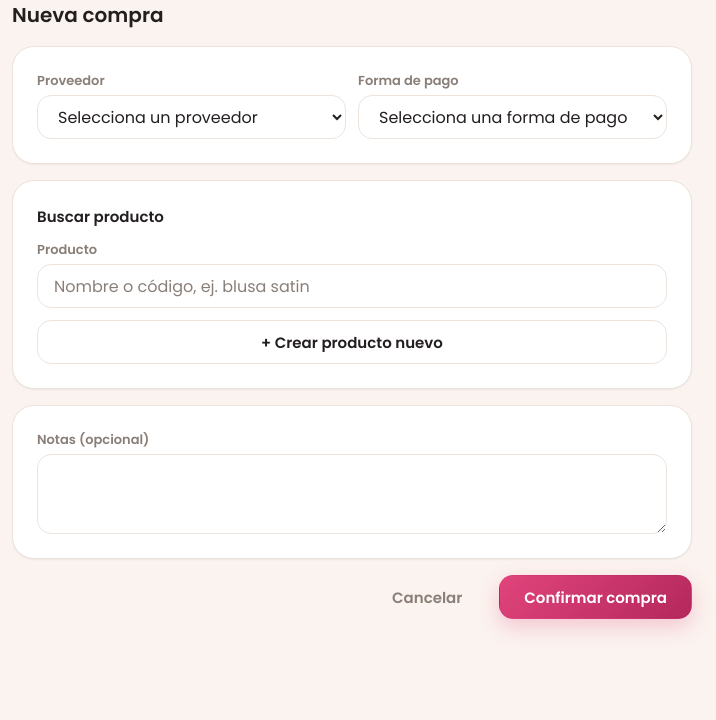
Test: PurchaseFormPage › busca productos existentes y permite seleccionarlos
Step 1. Type "blusa satin" into the field labelled "Producto" → x=352, y=286, box [37,264,667,308]
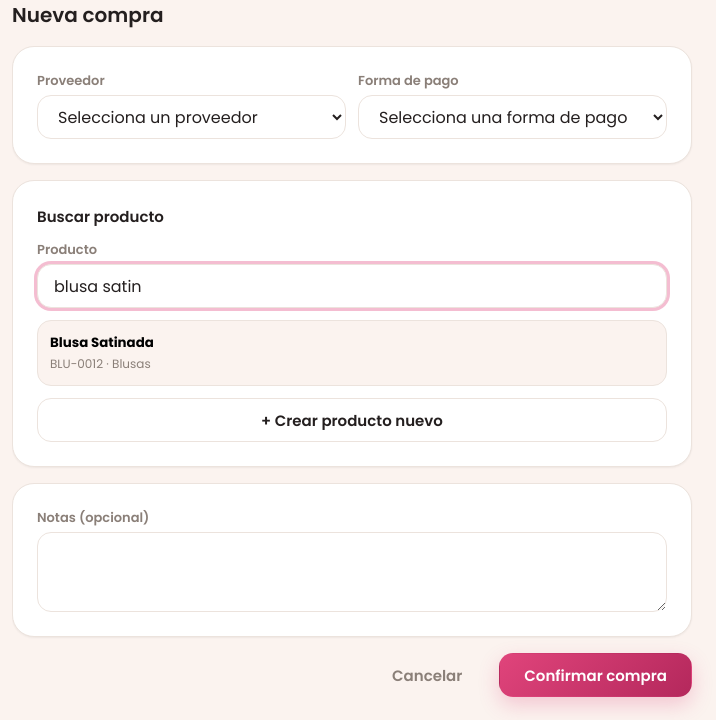
Step 2. Click the button "Blusa Satinada BLU-0012 · Blusas" → x=102, y=342, box [37,320,667,386]
(page scrolled)
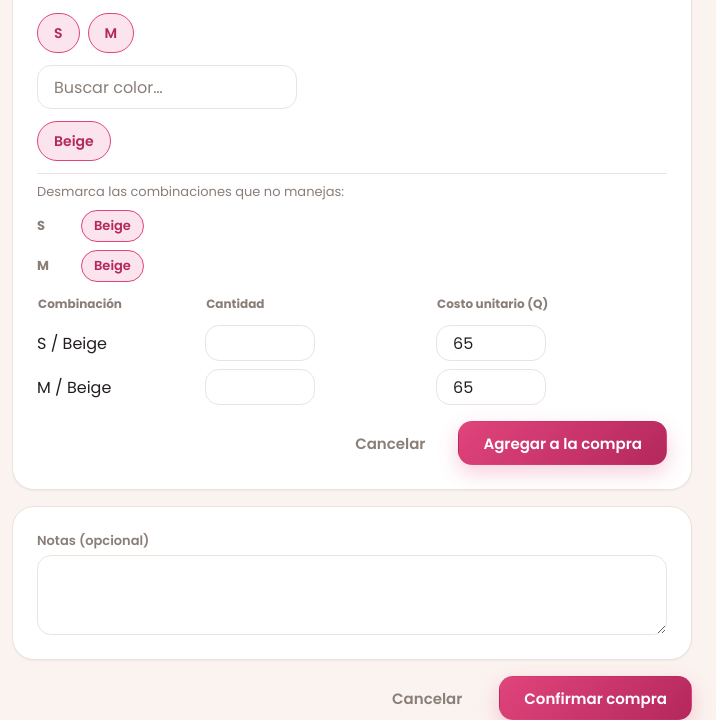
expect the text "S / Beige" is shown: met, box [37,321,205,365]
expect the text "M / Beige" is shown: met, box [37,365,205,409]
